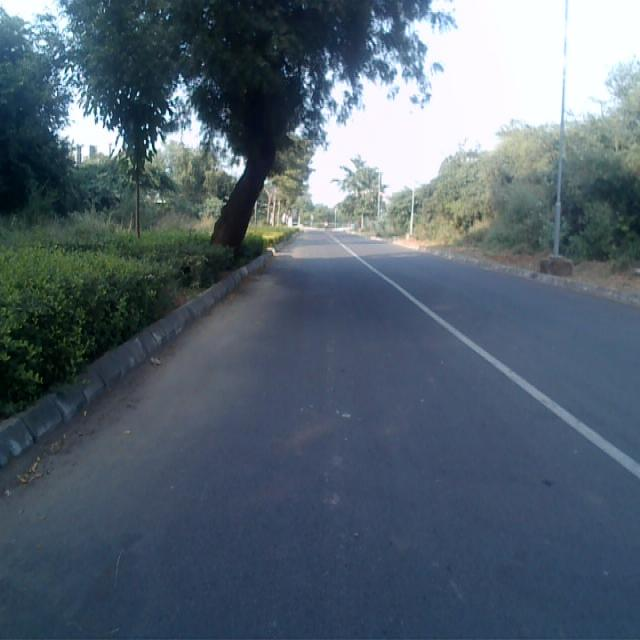lane: (0, 235, 640, 640)
